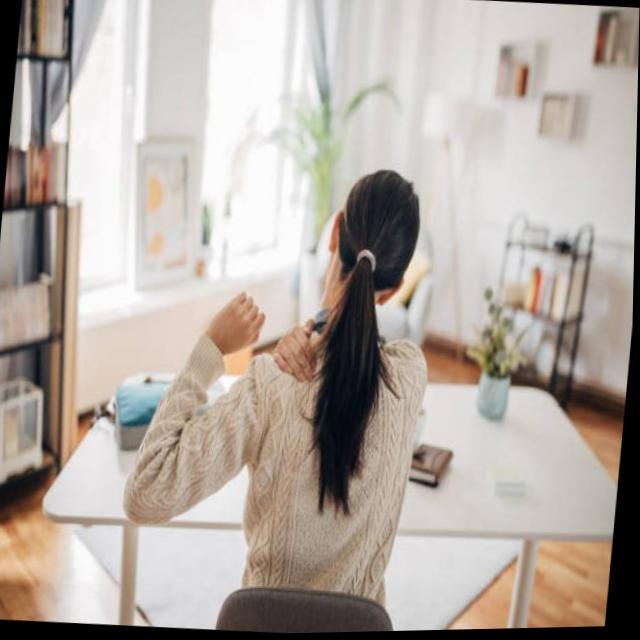no helmet: (317, 165, 428, 325)
